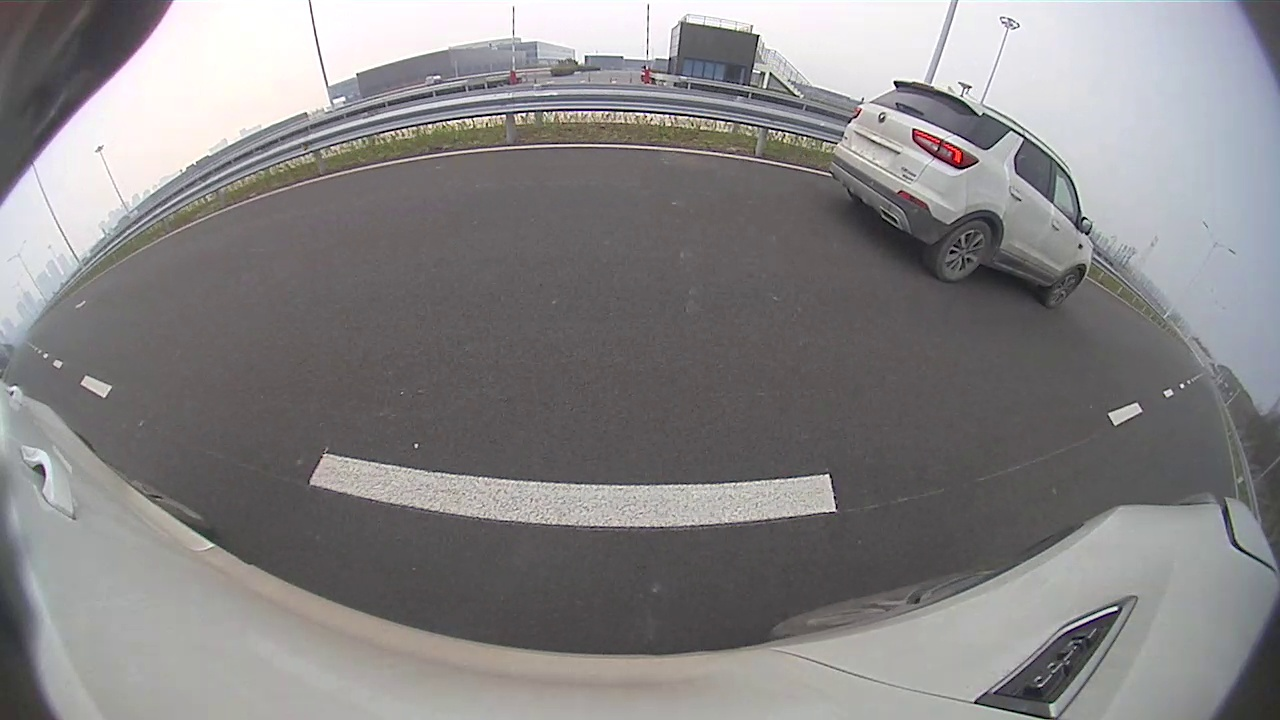car: (829, 81, 1096, 309)
front: (1044, 267, 1083, 308)
rear: (934, 220, 994, 284)
